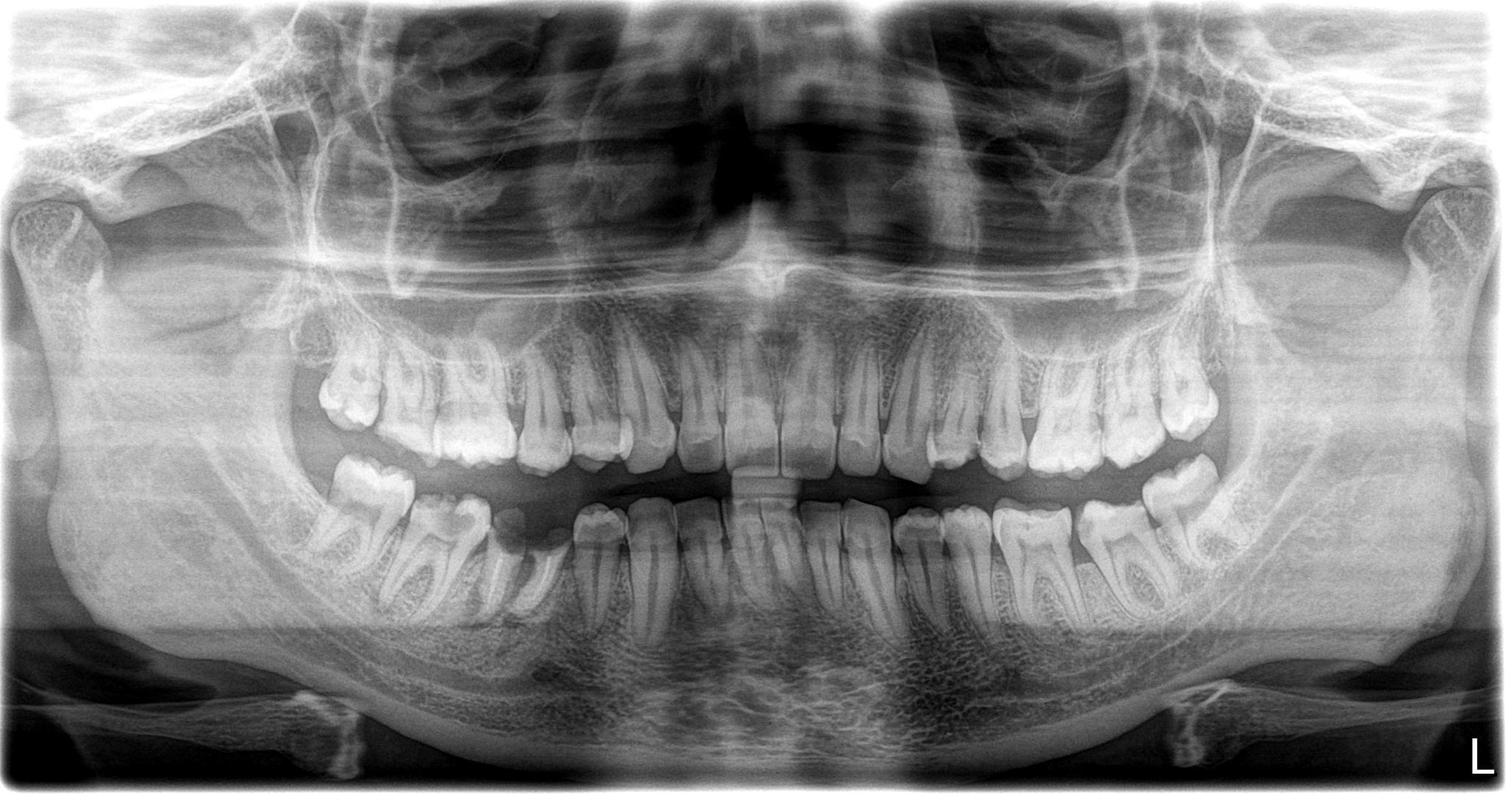Retained Root: (524, 515, 567, 618), (482, 517, 523, 616)
